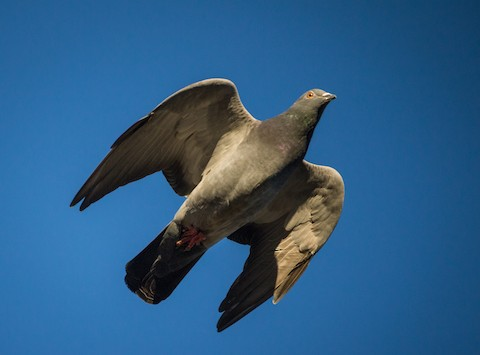pigeon: (53, 74, 354, 333)
